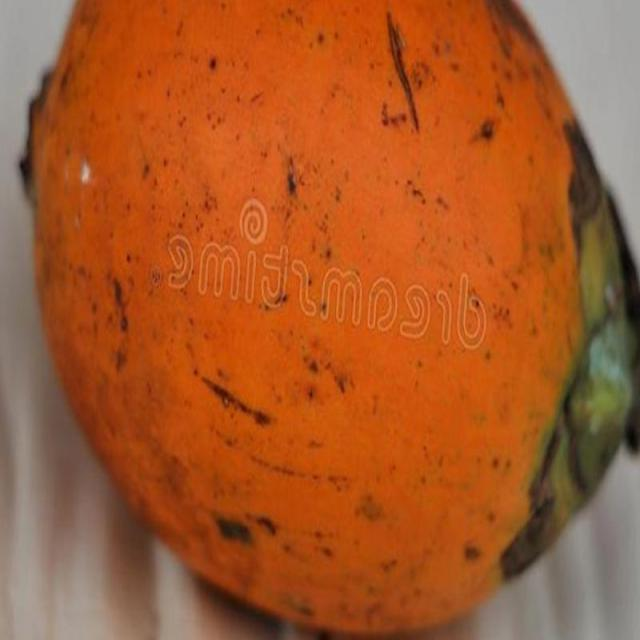good: (23, 0, 639, 639)
